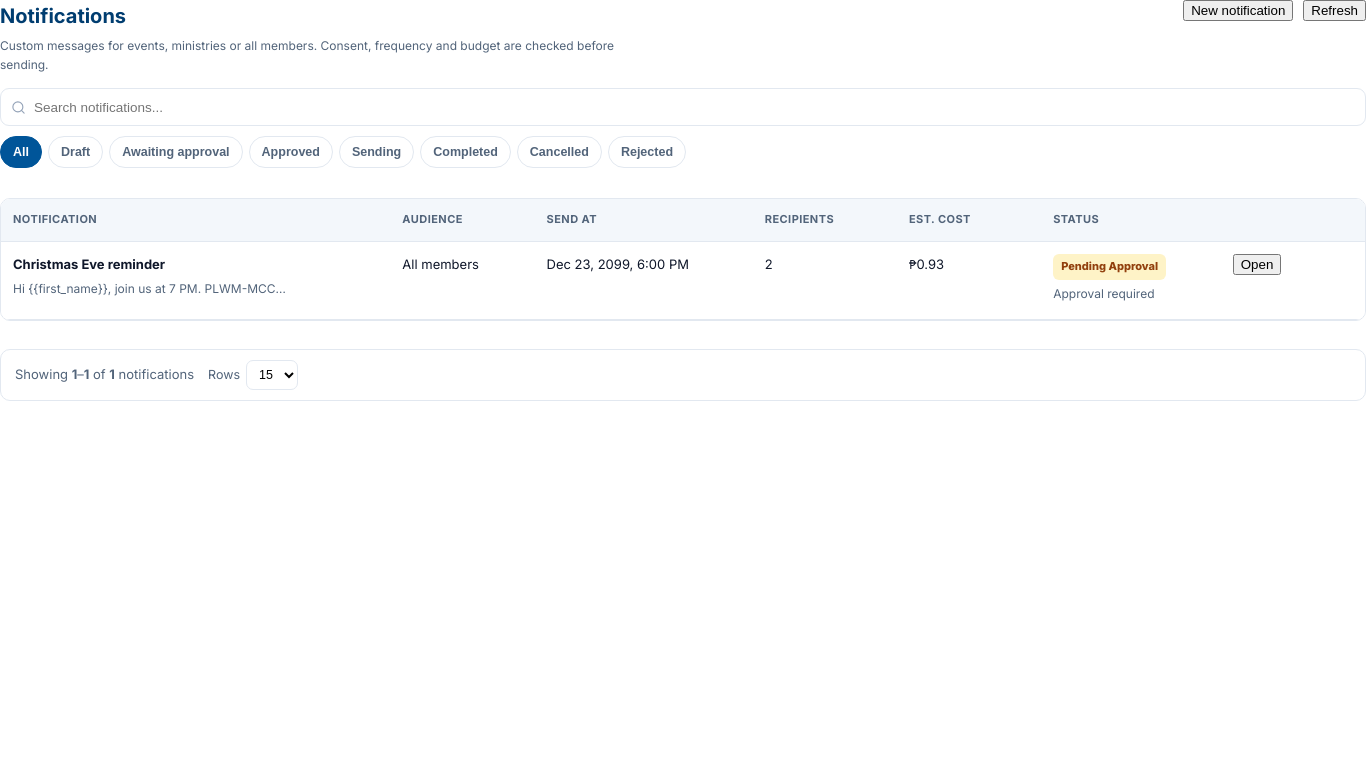
Scenario: CampaignsPanel › lists notifications and opens the composer
Expected: the text "Christmas Eve reminder" is shown, [13,256,165,272]
What coordinates should you click on to do the following:
click the button "New notification"
I would click on:
 (1238, 10)
Its box is [1183,0,1293,21].
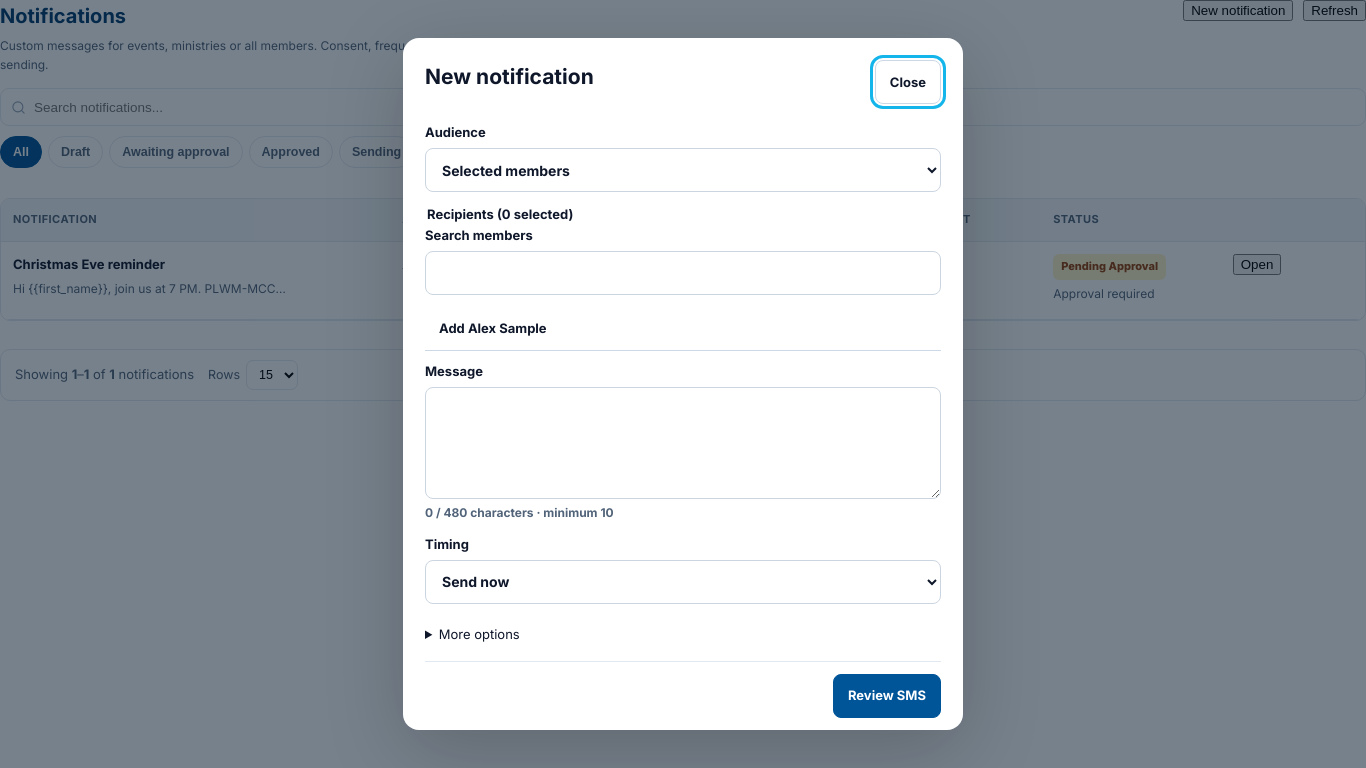
Now the dialog "New notification" is shown, box [403,38,963,730]
Now the text box labelled "Message 0 / 480 characters · minimum 10" is shown, box [425,387,941,499]
